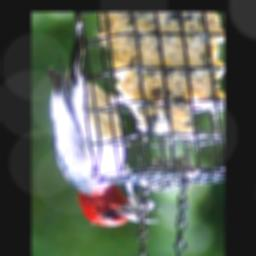Woodpecker: (47, 12, 164, 228)
